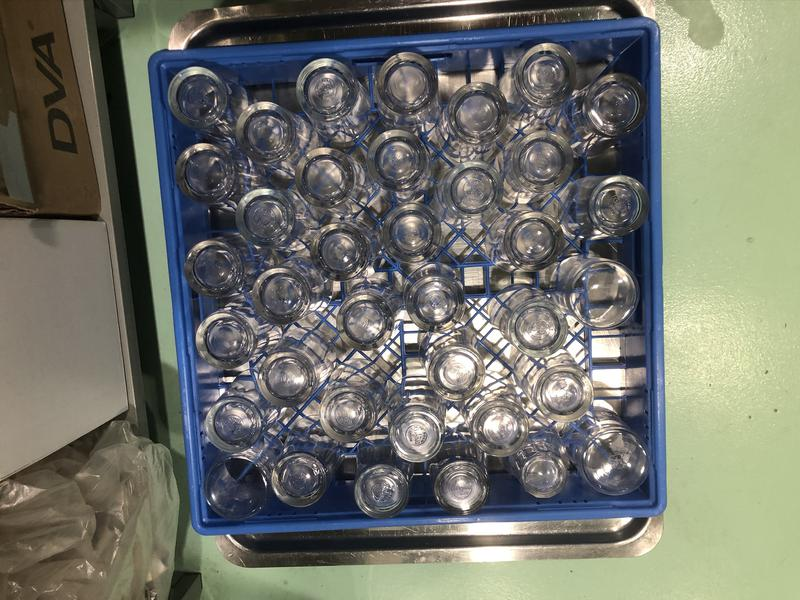Glass: (555, 422, 649, 499), (295, 56, 369, 143), (460, 358, 526, 455), (552, 254, 635, 330), (508, 42, 577, 132), (513, 353, 594, 427), (194, 301, 281, 369), (322, 364, 392, 448), (167, 64, 246, 137), (505, 131, 576, 212), (249, 258, 332, 327), (558, 179, 648, 241), (261, 327, 331, 406), (292, 147, 368, 218), (442, 82, 510, 160), (576, 73, 644, 150), (270, 435, 339, 508), (486, 212, 562, 278), (201, 382, 274, 450), (375, 53, 440, 129), (236, 188, 308, 256), (365, 129, 433, 201), (491, 288, 564, 355), (174, 143, 246, 205), (425, 332, 487, 404), (338, 282, 401, 352), (181, 232, 249, 296), (200, 456, 270, 517), (236, 101, 300, 165), (312, 221, 381, 280), (387, 393, 444, 463), (403, 266, 467, 328), (437, 162, 505, 220), (382, 203, 442, 266), (353, 458, 407, 519), (431, 455, 487, 512), (515, 441, 569, 499)
